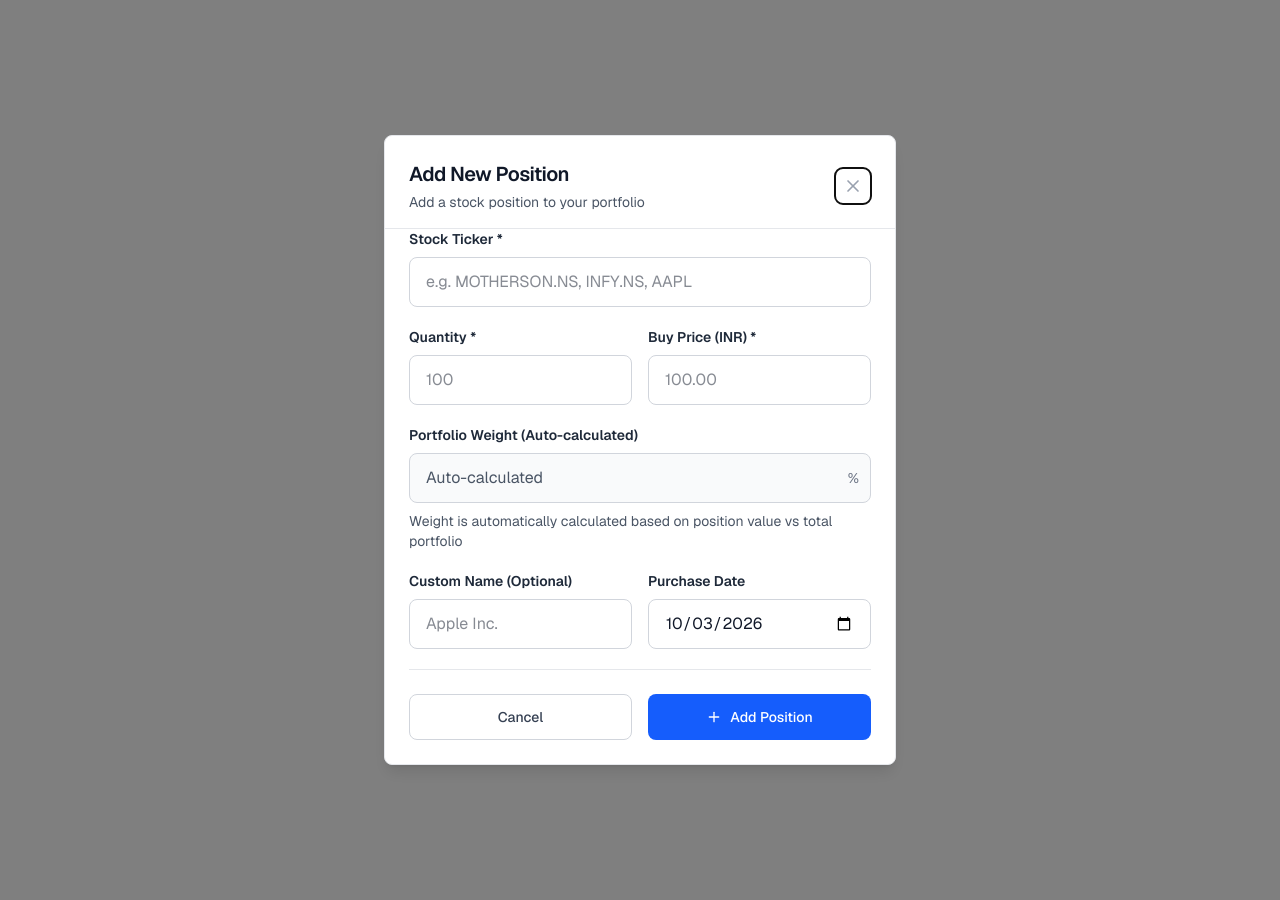
Test: AddPositionModalSimple Component › rejects a future purchase date
The image size is (1280, 900).
Type "INFY.NS" into the field with placeholder "e.g. MOTHERSON.NS, INFY.NS, AAPL".
click(640, 282); type("INFY.NS")  # box left=409, top=257, right=871, bottom=307
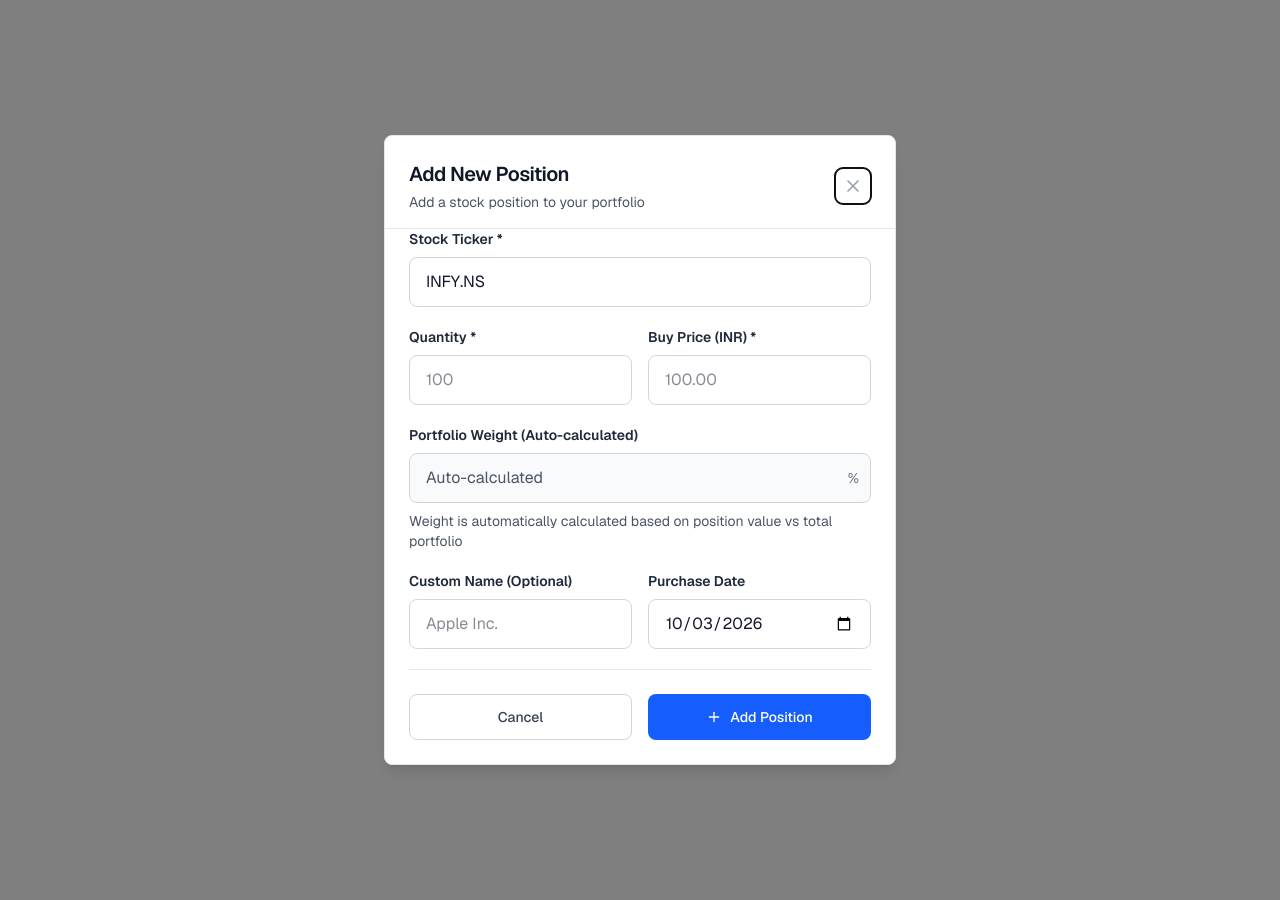
Type "10" into the number field with placeholder "100".
click(520, 380); type("10")  # box left=409, top=355, right=632, bottom=405
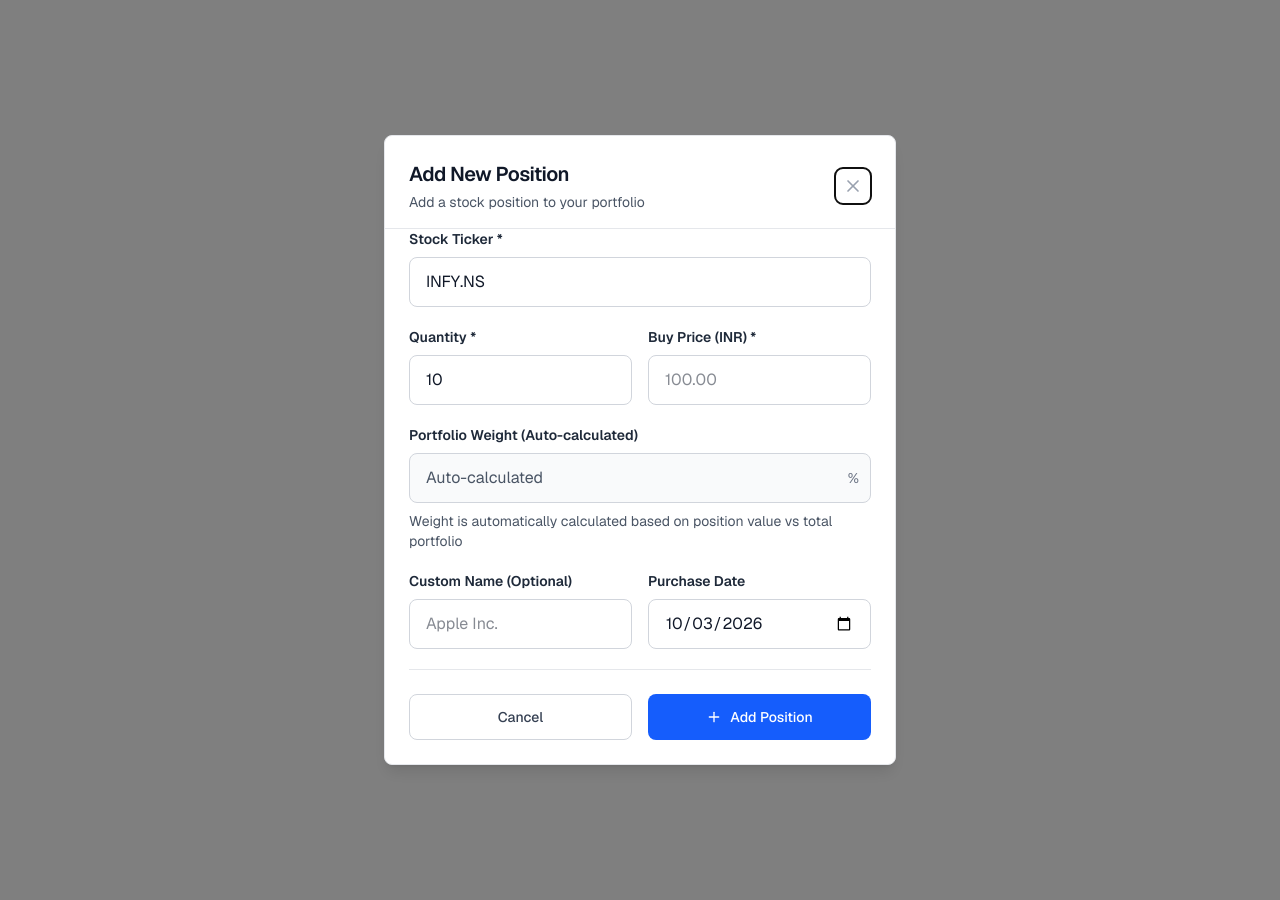
Type "1500" into the number field with placeholder "100.00".
click(760, 380); type("1500")  # box left=648, top=355, right=871, bottom=405
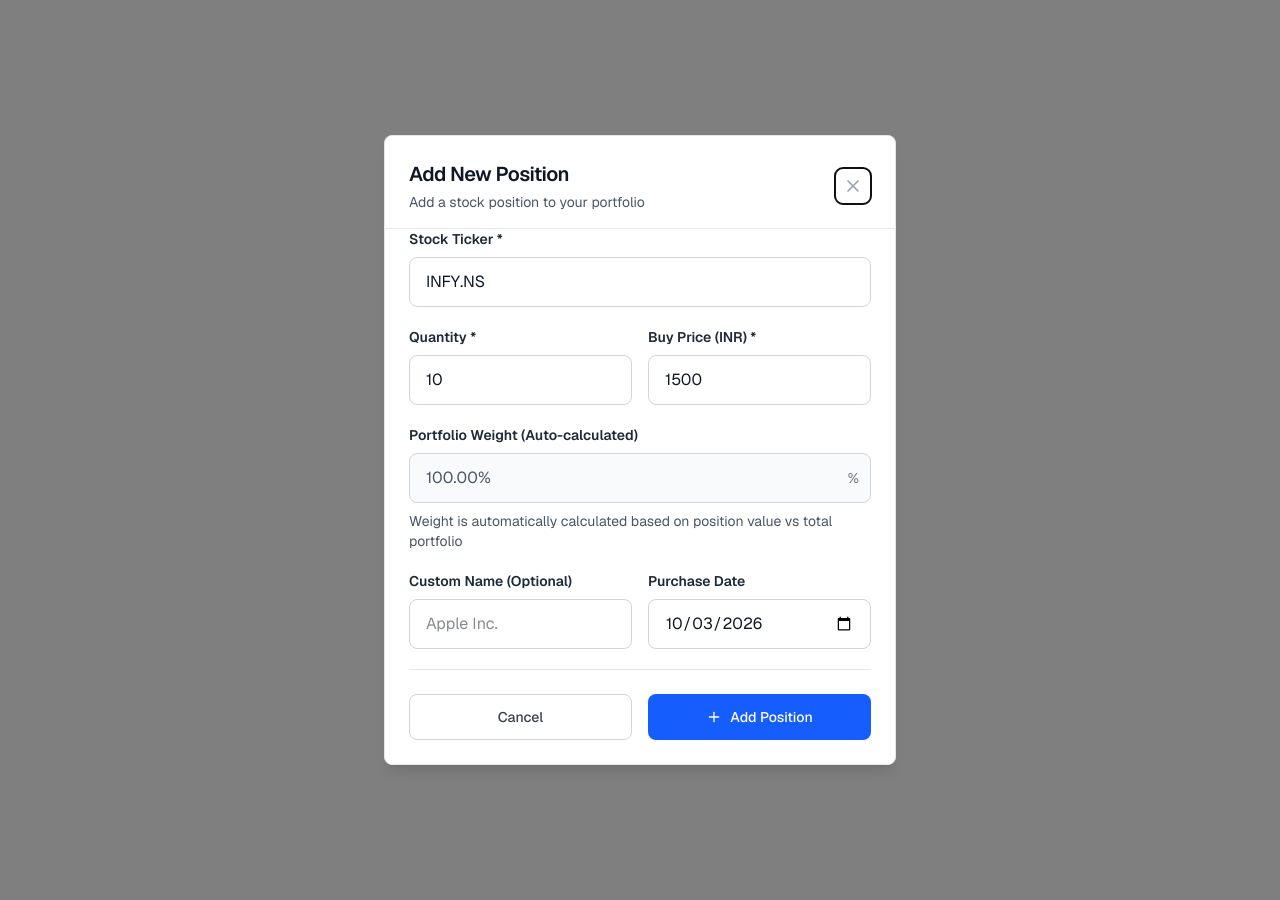
Result: the field showing "100.00%" is shown at left=409, top=453, right=871, bottom=503
Type "2999-01-01" into the date field labelled "Purchase Date".
click(760, 624); type("2999-01-01")  # box left=648, top=599, right=871, bottom=649
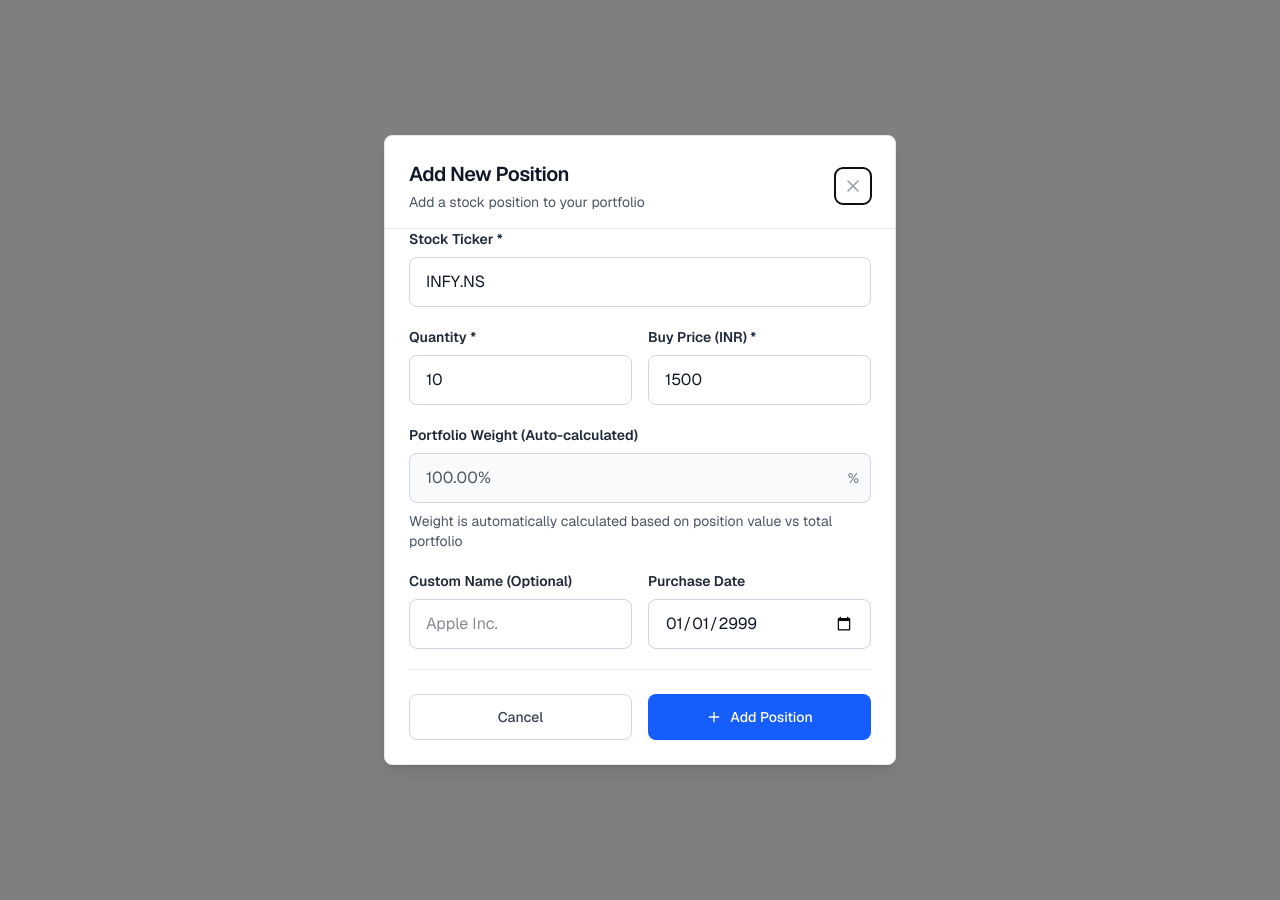
Submit the form, box left=385, top=229, right=895, bottom=764
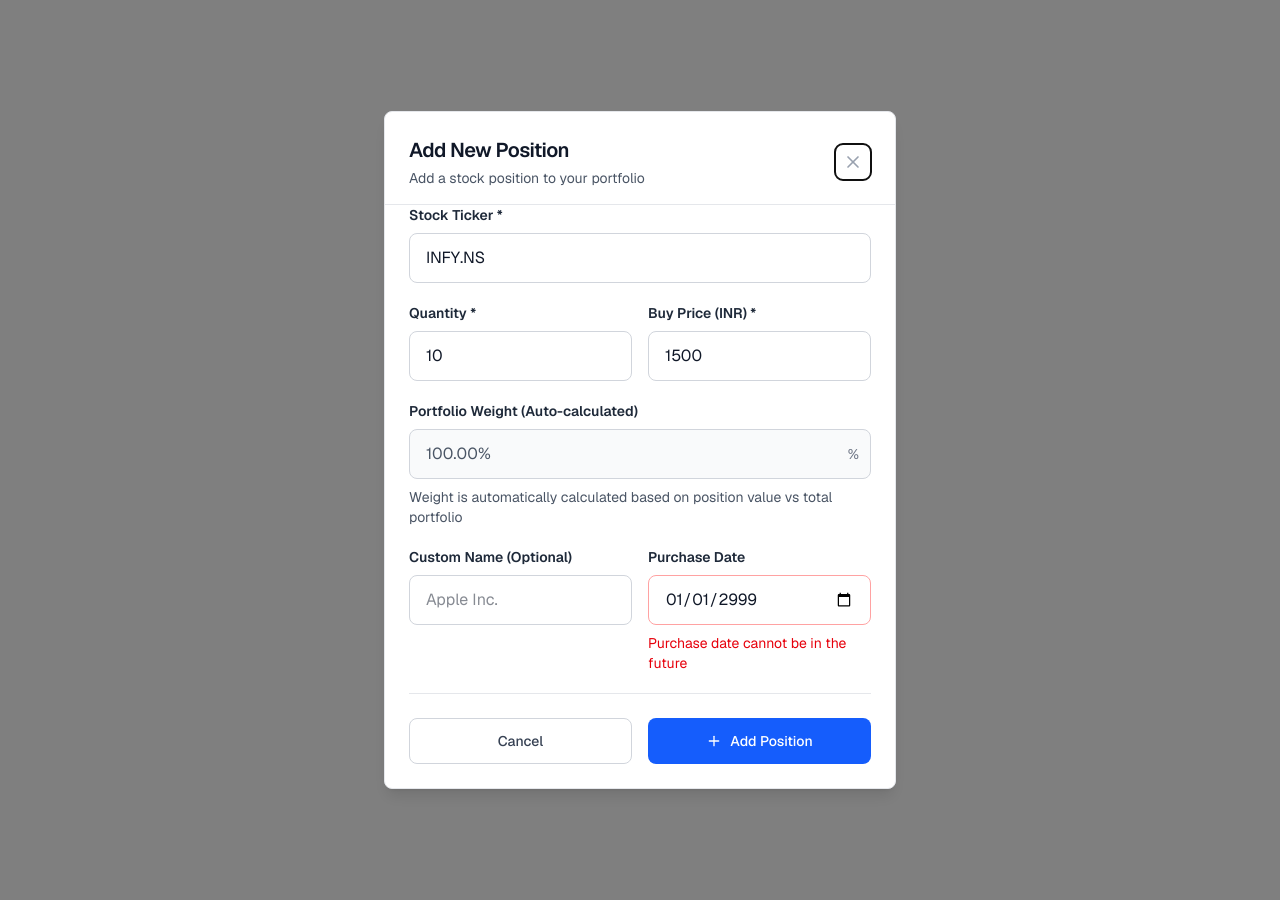
Result: the text "Purchase date cannot be in the future" is shown at left=648, top=633, right=871, bottom=673
